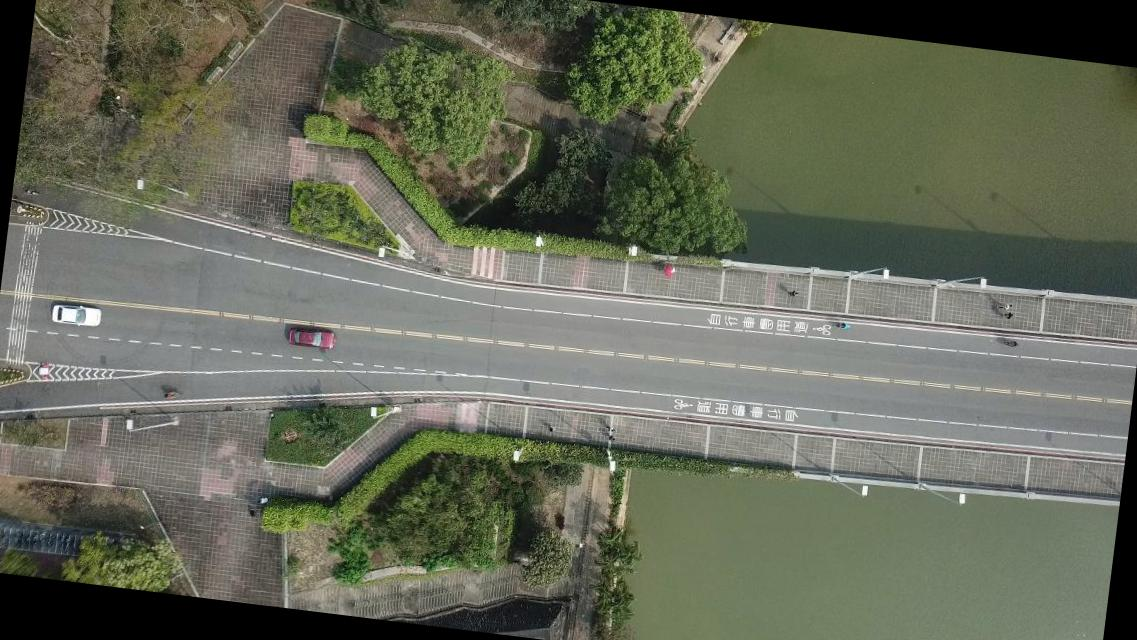vehicle: (49, 301, 102, 329), (287, 325, 336, 351)
